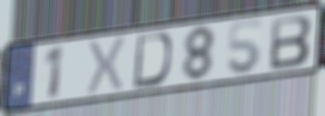1: (40, 43, 66, 103)
5: (228, 15, 266, 77)
8: (181, 24, 217, 83)
B: (268, 13, 314, 72)
D: (131, 31, 173, 91)
X: (85, 33, 129, 97)
